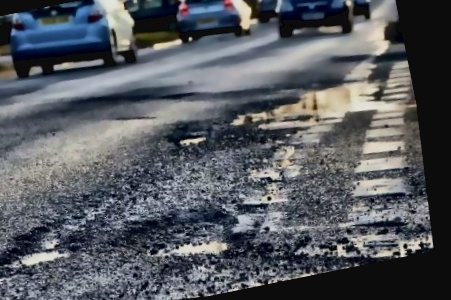pothole: (123, 199, 244, 274), (0, 208, 84, 278), (174, 130, 208, 150)
